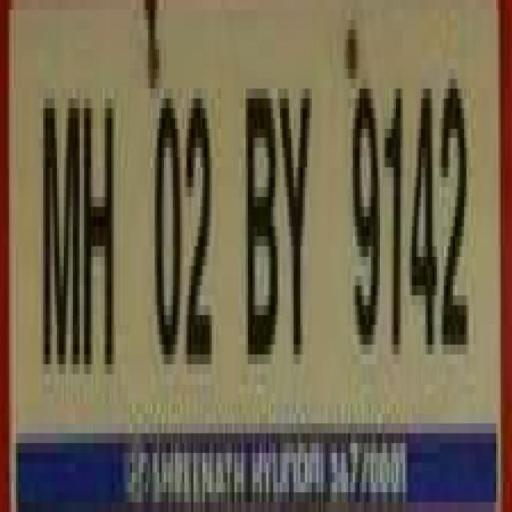number plate: (0, 9, 494, 492)
